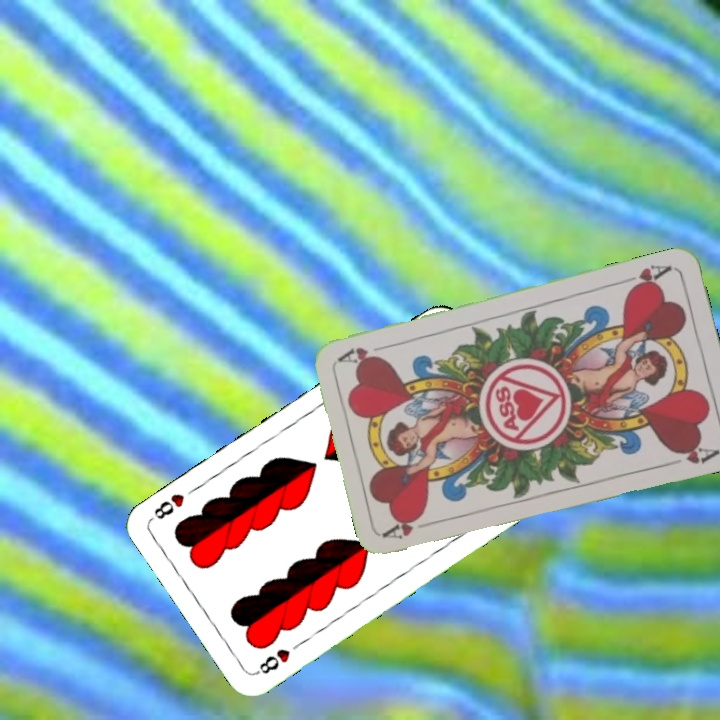H8: (252, 644, 293, 677)
HA: (617, 260, 675, 294), (381, 509, 440, 542)
